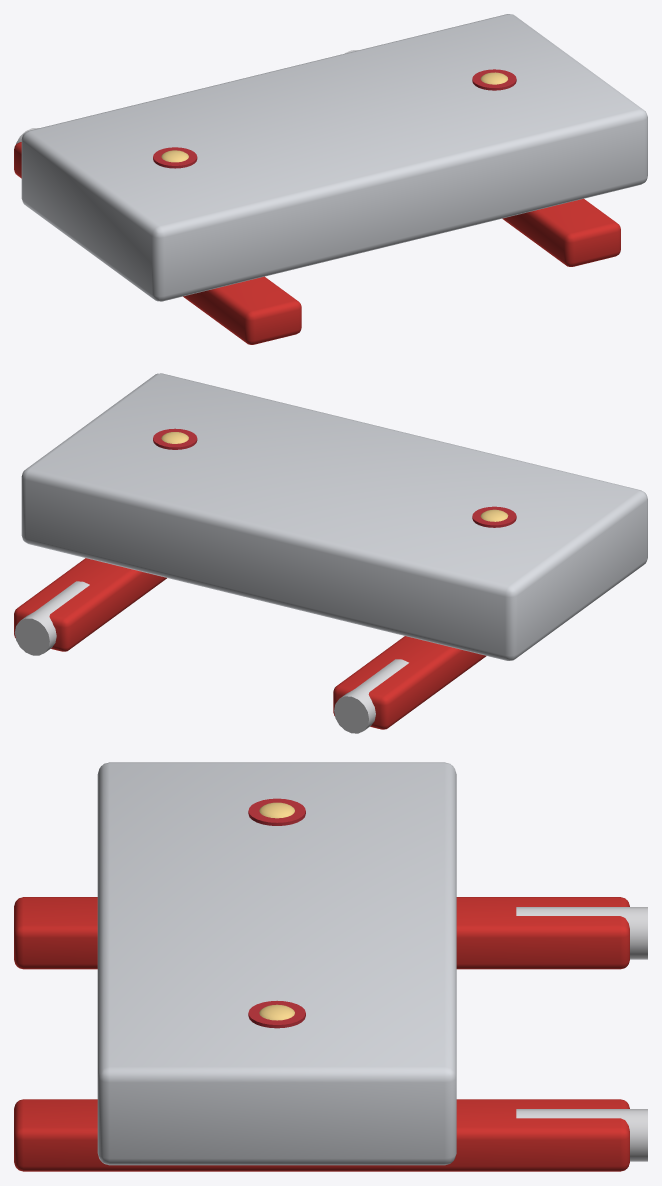
3 views of the same model, one above another, from view 1: azimuth 30°, elevation 25°; view 2: azimuth 150°, elevation 25°; view 3: azimuth 270°, elevation 25° (orthographic). The views are drawn at different scales.
Visible parts, largest first — view 1: glockenspiel_v4_default; view 2: glockenspiel_v4_default; view 3: glockenspiel_v4_default.
Part boxes in pixels (x1,y1,x2,y2): glockenspiel_v4_default: (14, 14, 647, 344); glockenspiel_v4_default: (14, 373, 647, 733); glockenspiel_v4_default: (14, 762, 647, 1171).
Size of the model in its own units: 0.62 by 0.139 by 0.53.
